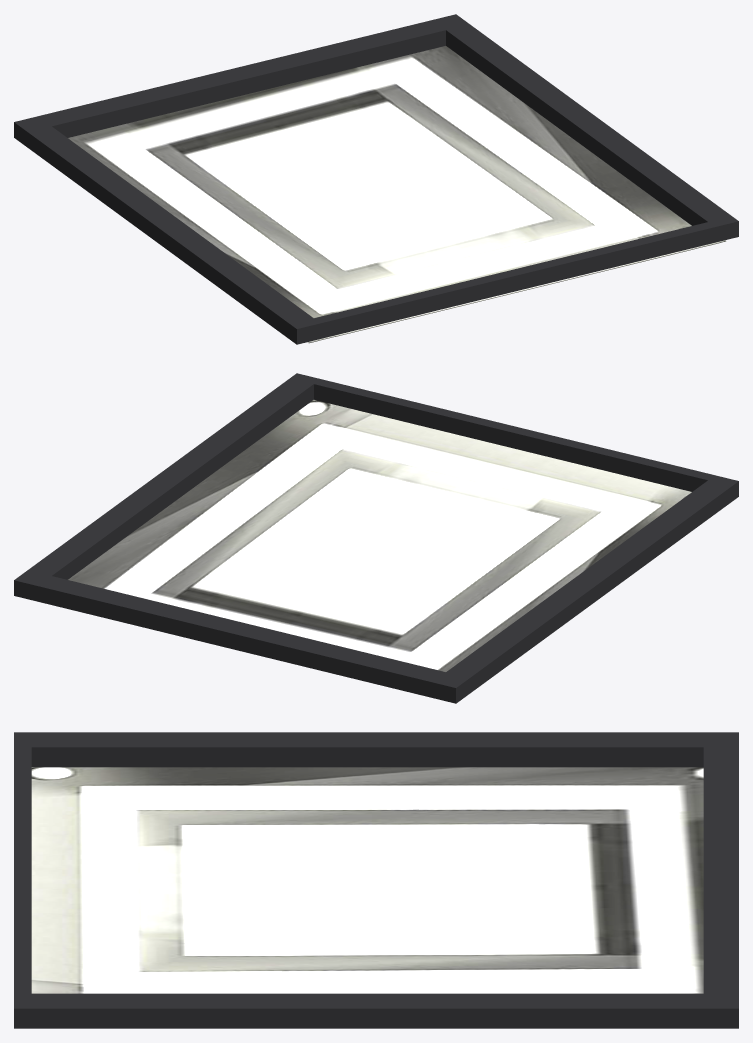
Rendered from ceiling_DD005.glb.
3 views of the same model, one above another, from view 1: azimuth 30°, elevation 25°; view 2: azimuth 150°, elevation 25°; view 3: azimuth 270°, elevation 25° (orthographic). The views are drawn at different scales.
Parts seen in each view (by area): view 1: Ceiling_Shell, Ceiling_Mirror, Ceiling_Panel_R, Ceiling_Panel_L; view 2: Ceiling_Shell, Ceiling_Mirror, Ceiling_Panel_R, Ceiling_Panel_L; view 3: Ceiling_Shell, Ceiling_Mirror, Ceiling_Panel_L, Ceiling_Panel_R.
Part boxes in pixels (x1,y1,x2,y2): Ceiling_Shell: [14, 14, 738, 344]; Ceiling_Mirror: [173, 76, 592, 310]; Ceiling_Panel_R: [322, 46, 726, 273]; Ceiling_Panel_L: [68, 112, 442, 343]; Ceiling_Shell: [14, 373, 738, 703]; Ceiling_Mirror: [192, 430, 586, 646]; Ceiling_Panel_R: [68, 400, 437, 609]; Ceiling_Panel_L: [341, 466, 691, 671]; Ceiling_Shell: [14, 732, 738, 1028]; Ceiling_Mirror: [31, 845, 703, 939]; Ceiling_Panel_L: [31, 767, 703, 845]; Ceiling_Panel_R: [31, 939, 703, 993].
Bounding box in the file's own units: 1.48 × 0.056 × 1.64.
3 materials, 1 textured.
